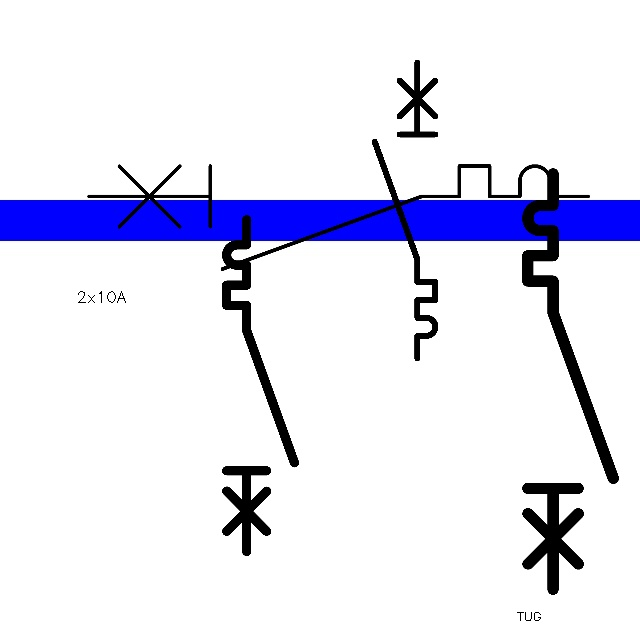interruptor_termomagnetico: (76, 153, 601, 281), (517, 163, 624, 600), (218, 211, 303, 560), (367, 55, 443, 366)
